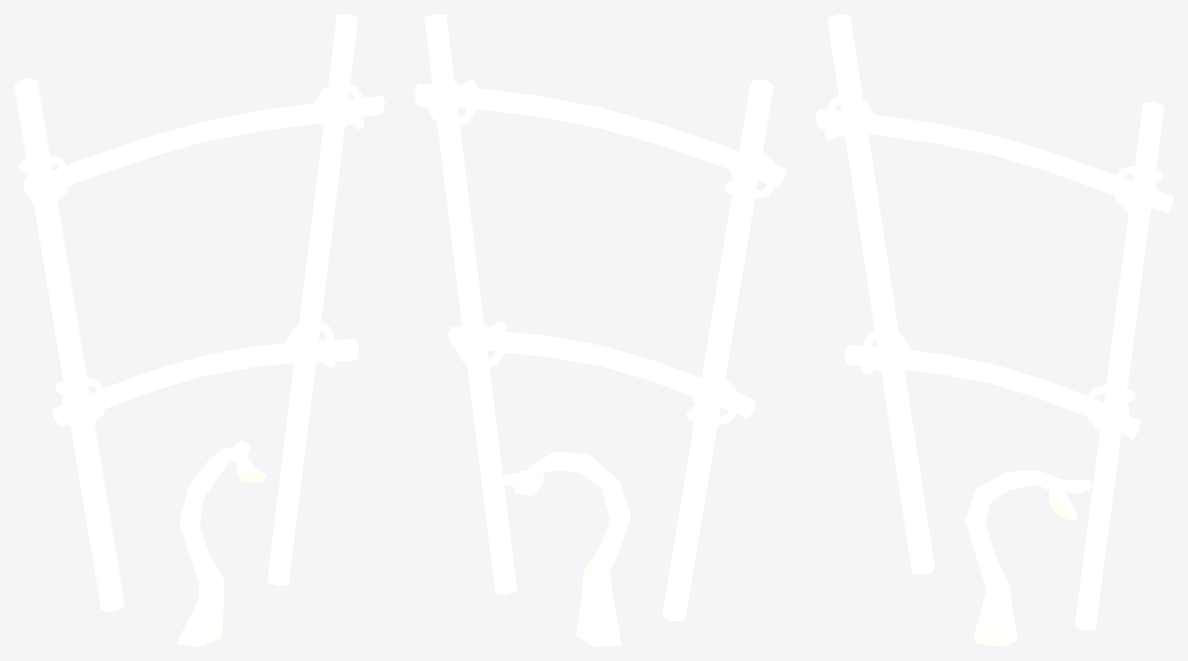
3 renders of one model, left to right at view 1: azimuth 30°, elevation 25°; view 2: azimuth 150°, elevation 25°; view 3: azimuth 330°, elevation 25°, orthographic. The views are drawn at different scales.
Visible parts, largest first — view 1: SM_Tomato_01v1_LOD0; view 2: SM_Tomato_01v1_LOD0; view 3: SM_Tomato_01v1_LOD0.
Boxes of the visible parts, x1,y1,x2,y2 form: SM_Tomato_01v1_LOD0: (14,14,385,646); SM_Tomato_01v1_LOD0: (414,14,786,646); SM_Tomato_01v1_LOD0: (815,14,1173,646).
Bounding box in the file's own units: 0.5032 × 0.7965 × 0.1069.
1 material, 1 textured.
